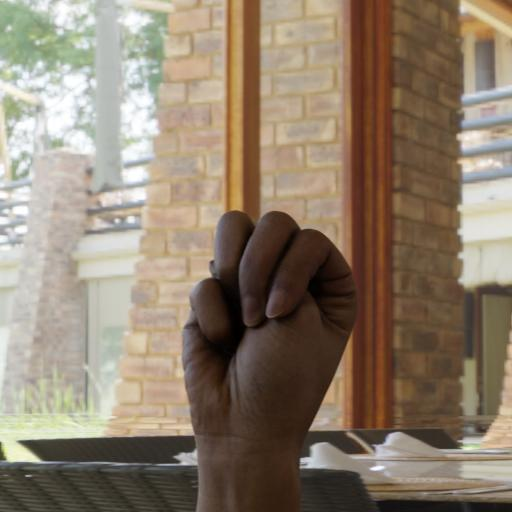M: (162, 192, 378, 512)
